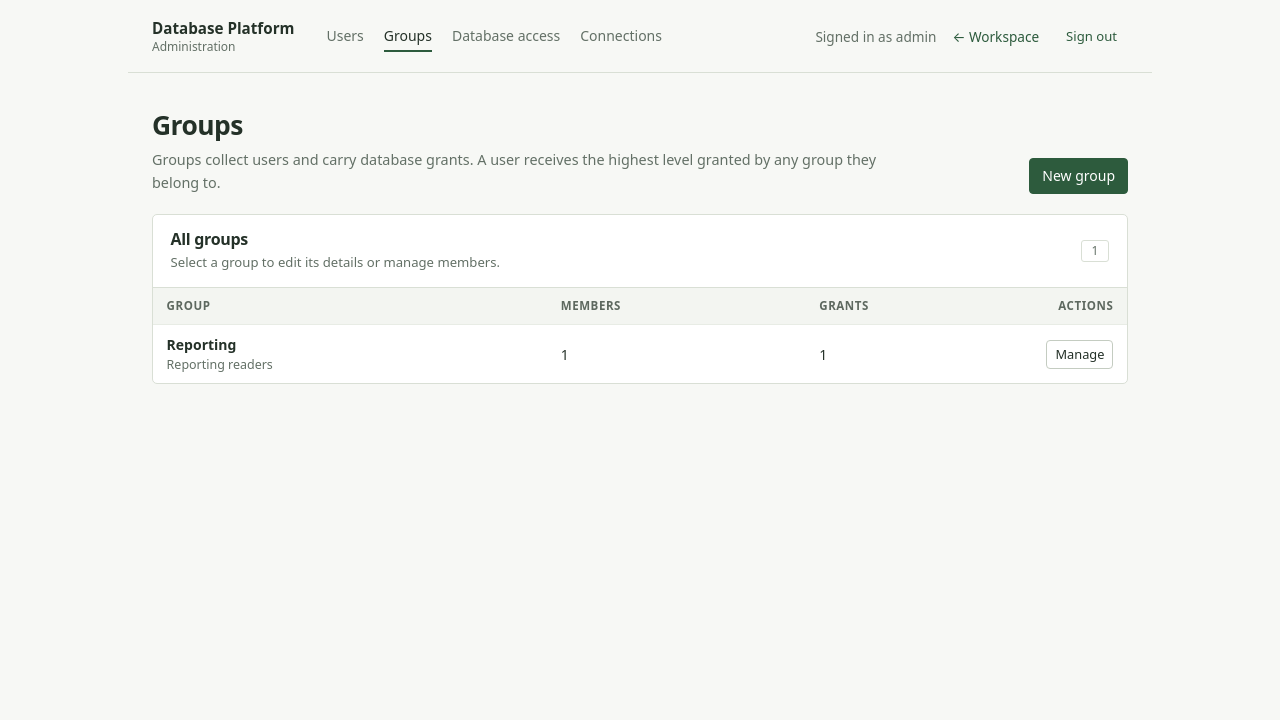
Scenario: administrator can inspect a group and add its first member
Expected: the heading "Groups" is shown, x1=152 y1=107 x2=243 y2=143
Expected: the text "Reporting readers" is shown, x1=167 y1=356 x2=273 y2=373
Click the button "Manage" at point(1080, 354), box x1=1046 y1=340 x2=1113 y2=368
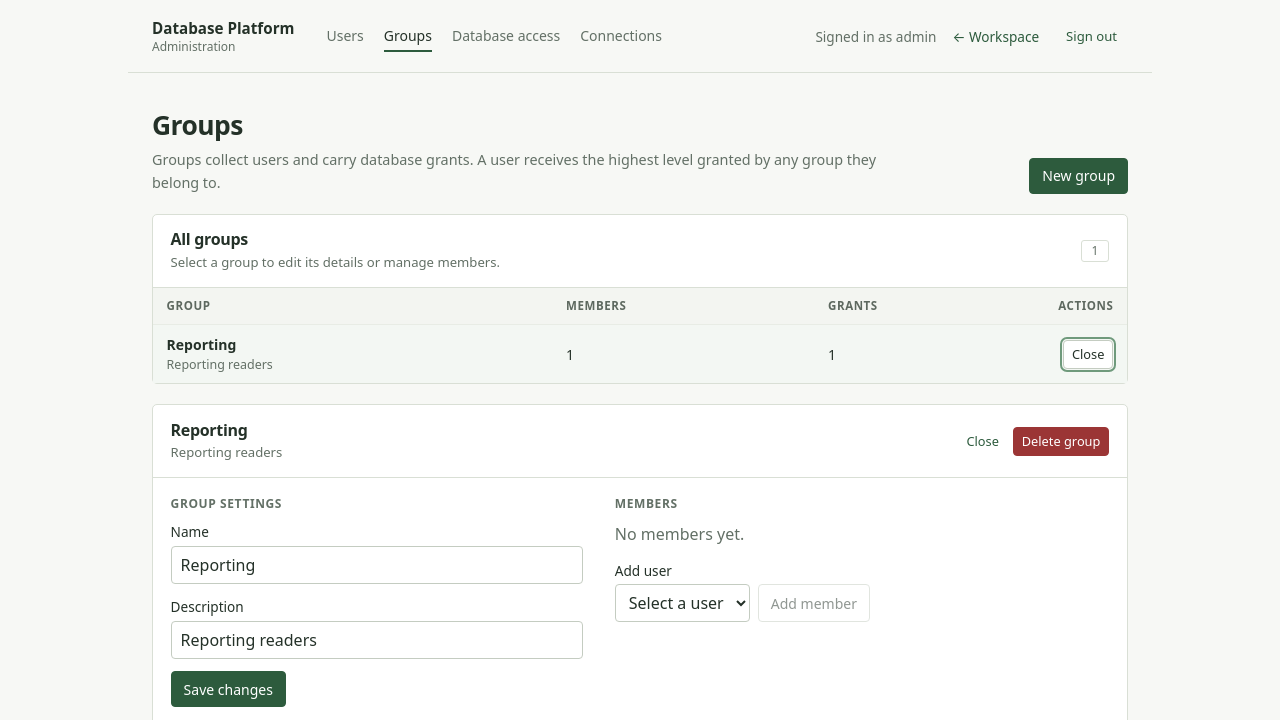
Expected: the heading "Reporting" is shown, x1=171 y1=419 x2=248 y2=441
Expected: the text "No members yet." is shown, x1=615 y1=523 x2=744 y2=545
Expected: the dropdown labelled "Add user" is shown, x1=615 y1=584 x2=750 y2=622
